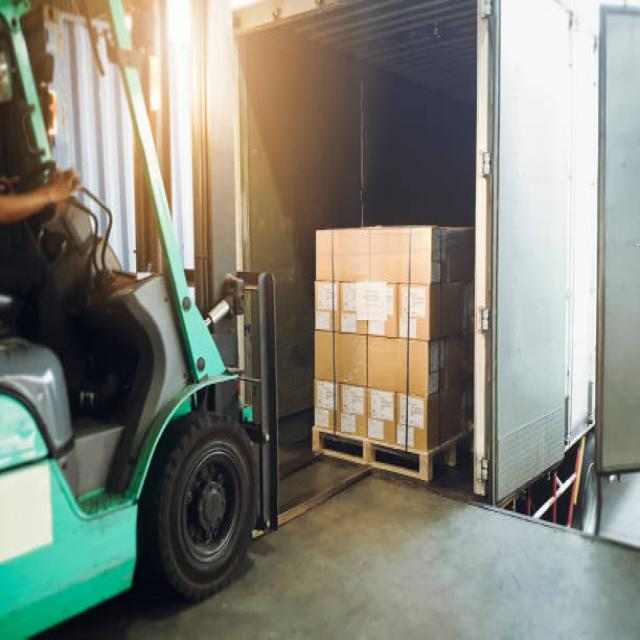Wooden-Pallets: (311, 426, 430, 491)
